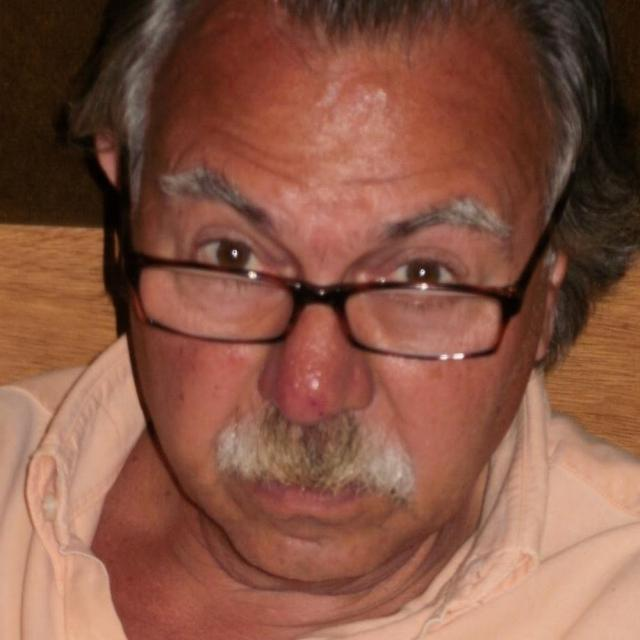surprised: (132, 118, 552, 523)
